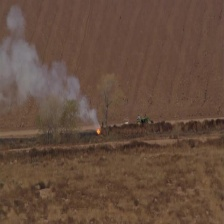fire: (94, 126, 103, 135)
smoke: (1, 7, 104, 121)
